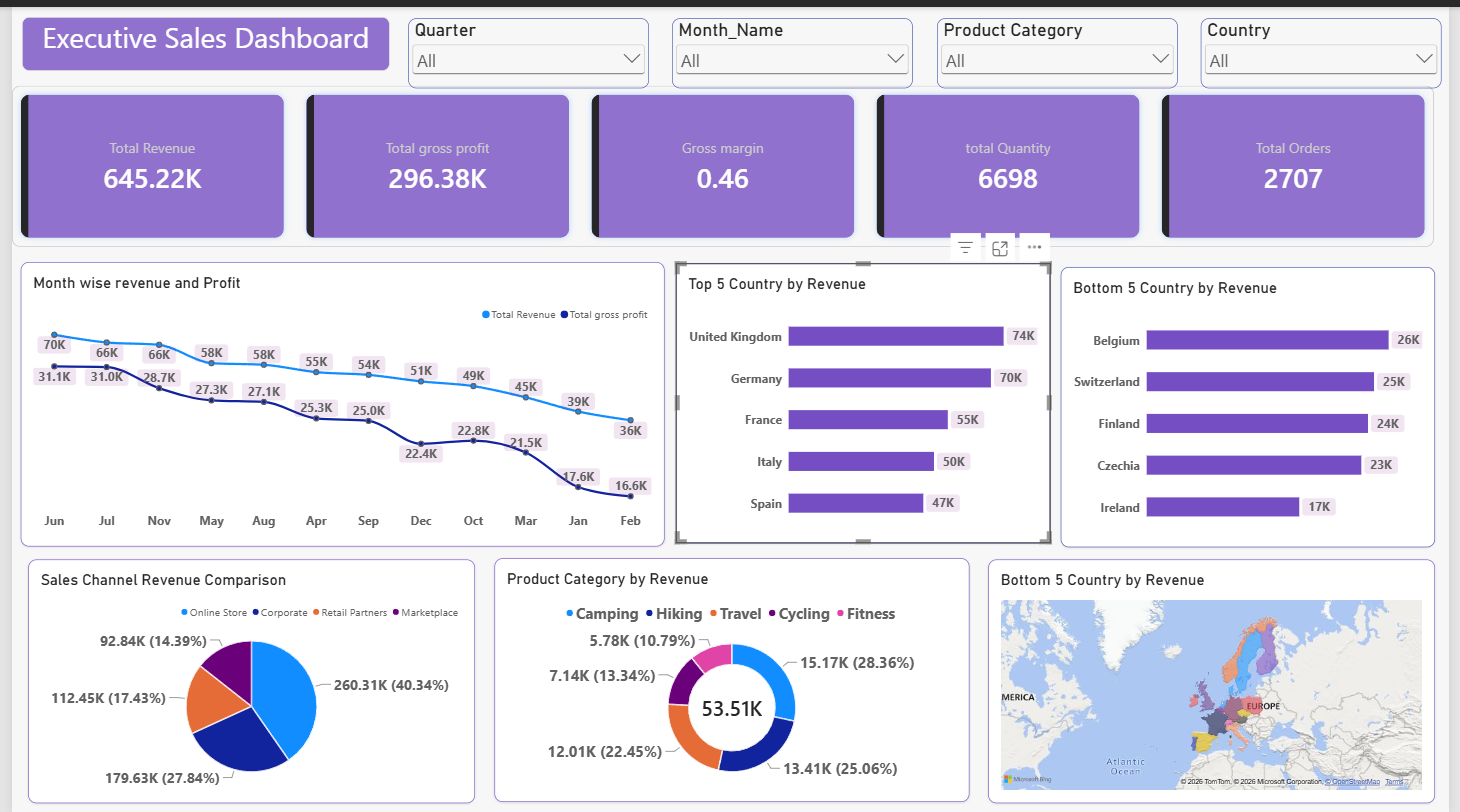

Layout of this report page (visuals, bound fields, positions):
{"tool":"powerbi","page":{"name":"Page 1","canvas":[1920,1080],"ordinal":0},"visuals":[{"type":"slicer","fields":{"Values":["Sales_Data.Country"]},"box":[1587.6,14.5,321.8,93.9],"z":0,"group":"g1"},{"type":"cardVisual","fields":{"Data":["All_Measures.Total Revenue","All_Measures.Total gross profit","All_Measures.Gross margin","All_Measures.total Quantity","All_Measures.Total Orders"]},"box":[0,104.9,1901.2,215.3],"z":0},{"type":"slicer","fields":{"Values":["Date_Table.Quarter"]},"box":[529,14.5,321.8,93.9],"z":1000,"group":"g1"},{"type":"pieChart","title":"Sales Channel Revenue Comparison","fields":{"Category":["Sales_Data.Sales Channel"],"Y":["All_Measures.Total Revenue"]},"box":[21.1,737.3,596.9,325.6],"z":1000},{"type":"textbox","box":[12.9,12.9,491.4,71.8],"z":2000},{"type":"slicer","fields":{"Values":["Date_Table.Month_Name"]},"box":[881.9,14.5,321.8,93.9],"z":2000,"group":"g1"},{"type":"slicer","fields":{"Values":["Sales_Data.Product Category"]},"box":[1234.7,14.5,321.8,93.9],"z":3000,"group":"g1"},{"type":"donutChart","title":"Product Category by Revenue","fields":{"Category":["Sales_Data.Product Category"],"Y":["All_Measures.Total gross profit"]},"box":[644.1,736.6,634.4,325.6],"z":3000},{"type":"group","id":"g1","title":"Group 1","box":[529,14.5,1380.4,93.9],"z":4000},{"type":"filledMap","title":"Bottom 5 Country by Revenue","fields":{"Category":["Sales_Data.Country"]},"box":[1304.6,737.3,596.9,325.6],"z":5000},{"type":"lineChart","title":"Month wise revenue and Profit","fields":{"Category":["Date_Table.Month_Name"],"Y":["All_Measures.Total Revenue"],"Y2":["All_Measures.Total gross profit"]},"box":[12.5,340.2,859.8,379.8],"z":6000},{"type":"clusteredBarChart","title":"Top 5 Country by Revenue","fields":{"Category":["Sales_Data.Country"],"Y":["All_Measures.Total Revenue"]},"box":[887.1,341.7,500.2,374.7],"z":7000},{"type":"clusteredBarChart","title":"Bottom 5 Country by Revenue","fields":{"Category":["Sales_Data.Country"],"Y":["All_Measures.Total Revenue"]},"box":[1401.7,347.8,500.2,374.7],"z":8000}]}

Visuals, with their boxes in screenshot pixels (x1, y1, x2, y2), scaled from the page's 1920x1080 canvas onto the 1460x812 screenshot:
slicer - Sales_Data.Country: [x1=1207, y1=11, x2=1452, y2=82]
cardVisual - All_Measures.Total Revenue x All_Measures.Total gross profit: [x1=0, y1=79, x2=1446, y2=241]
slicer - Date_Table.Quarter: [x1=402, y1=11, x2=647, y2=82]
"Sales Channel Revenue Comparison" pieChart: [x1=16, y1=554, x2=470, y2=799]
textbox: [x1=10, y1=10, x2=383, y2=64]
slicer - Date_Table.Month_Name: [x1=671, y1=11, x2=915, y2=82]
slicer - Sales_Data.Product Category: [x1=939, y1=11, x2=1184, y2=82]
"Product Category by Revenue" donutChart: [x1=490, y1=554, x2=972, y2=799]
"Group 1" group: [x1=402, y1=11, x2=1452, y2=82]
"Bottom 5 Country by Revenue" filledMap: [x1=992, y1=554, x2=1446, y2=799]
"Month wise revenue and Profit" lineChart: [x1=10, y1=256, x2=663, y2=541]
"Top 5 Country by Revenue" clusteredBarChart: [x1=675, y1=257, x2=1055, y2=539]
"Bottom 5 Country by Revenue" clusteredBarChart: [x1=1066, y1=261, x2=1446, y2=543]
